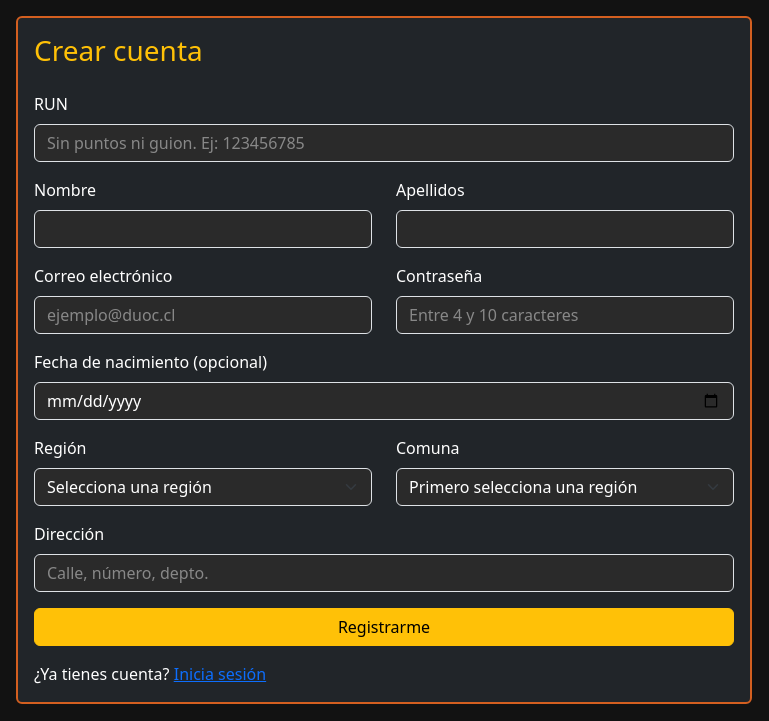
it: Página Registro › debería cargar las comunas al elegir una región
Expected: the dropdown labelled "Comuna" is disabled, [396,468,734,506]
Select "Valparaíso" in the dropdown labelled "Región" at (203, 487), box [34,468,372,506]
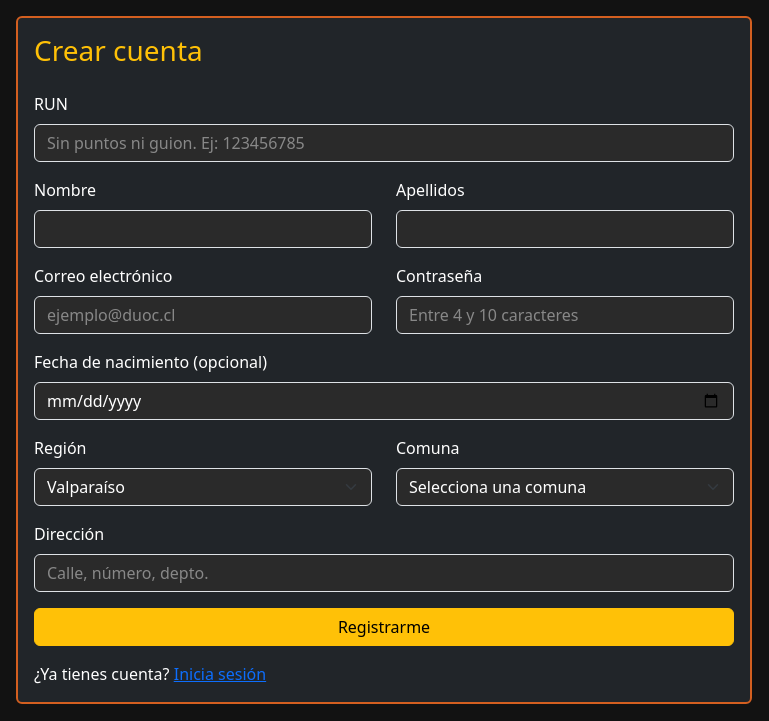
Now the dropdown labelled "Comuna" is enabled, box [396,468,734,506]
